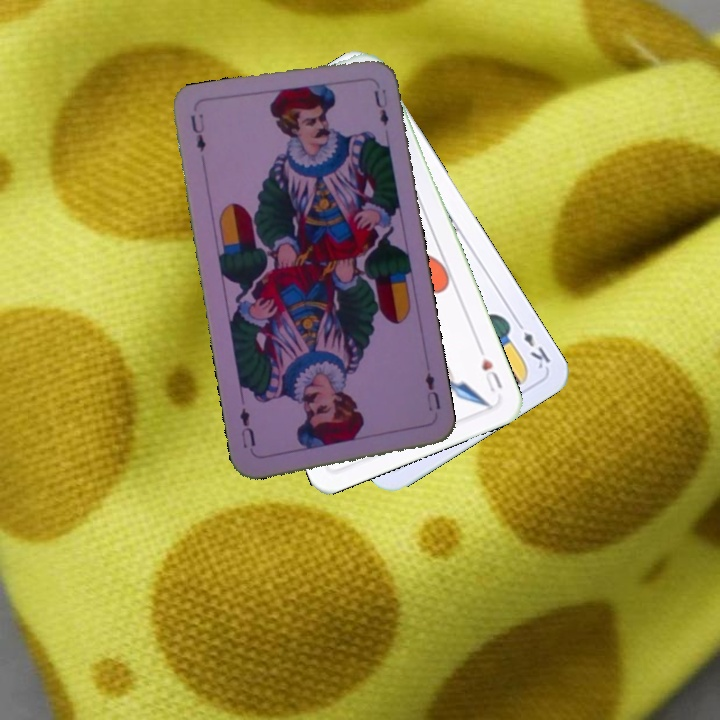EK: (512, 316, 554, 372)
EU: (186, 110, 209, 154), (421, 368, 443, 413)
HU: (477, 354, 505, 395)
